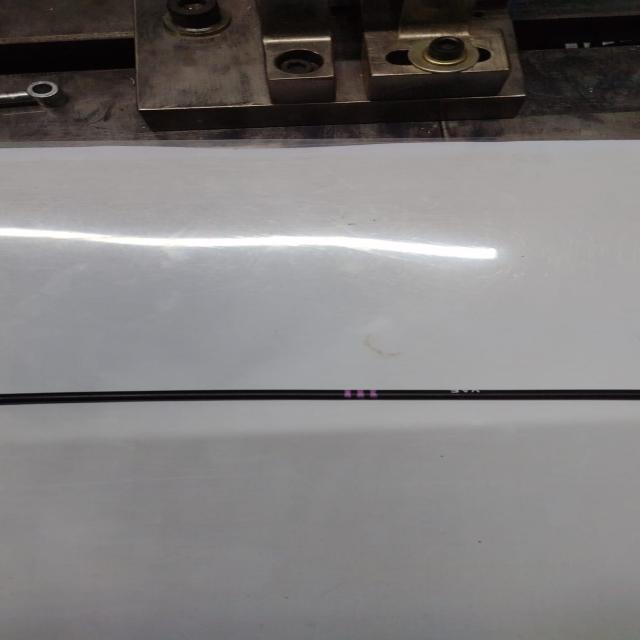pink: (344, 390, 377, 399)
